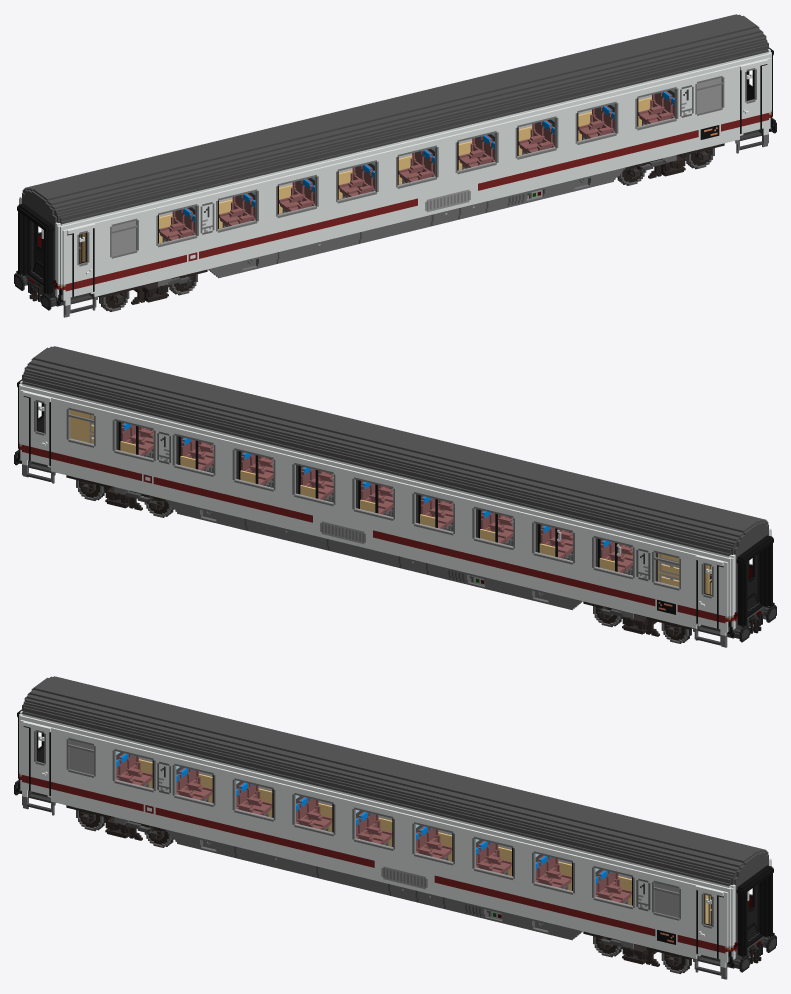
3 views of the same model, one above another, from view 1: azimuth 30°, elevation 25°; view 2: azimuth 150°, elevation 25°; view 3: azimuth 330°, elevation 25° (orthographic).
Visible parts, largest first — view 1: FRAME, BOGEY_FRONT, BOGEY_REAR; view 2: FRAME, BOGEY_FRONT, BOGEY_REAR; view 3: FRAME, BOGEY_REAR, BOGEY_FRONT.
Boxes of the visible parts, x1,y1,x2,y2 form: FRAME: (14, 14, 776, 317); BOGEY_FRONT: (98, 269, 207, 304); BOGEY_REAR: (623, 143, 724, 178); FRAME: (14, 346, 776, 647); BOGEY_FRONT: (583, 601, 692, 636); BOGEY_REAR: (66, 475, 167, 510); FRAME: (14, 676, 776, 979); BOGEY_REAR: (583, 931, 692, 966); BOGEY_FRONT: (66, 805, 167, 840).
Size of the model in its own units: 26.56 by 4.31 by 2.88.
1 material, 1 textured.
